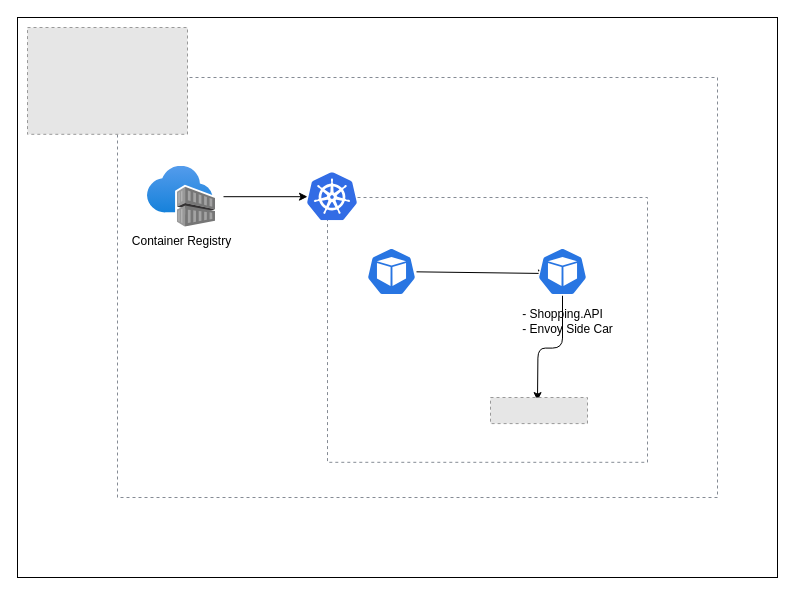
This 795x595 diagram has some shape labels left out. Grey dashed boxes stand in for pictures. The shapes that lost their labels are listed below. From the top down, each one's centre as x and y in pixels, then its label:
At (332,196): "Kubernetes".
At (391,271): "- Shopping.Client - Envoy Side Car".
